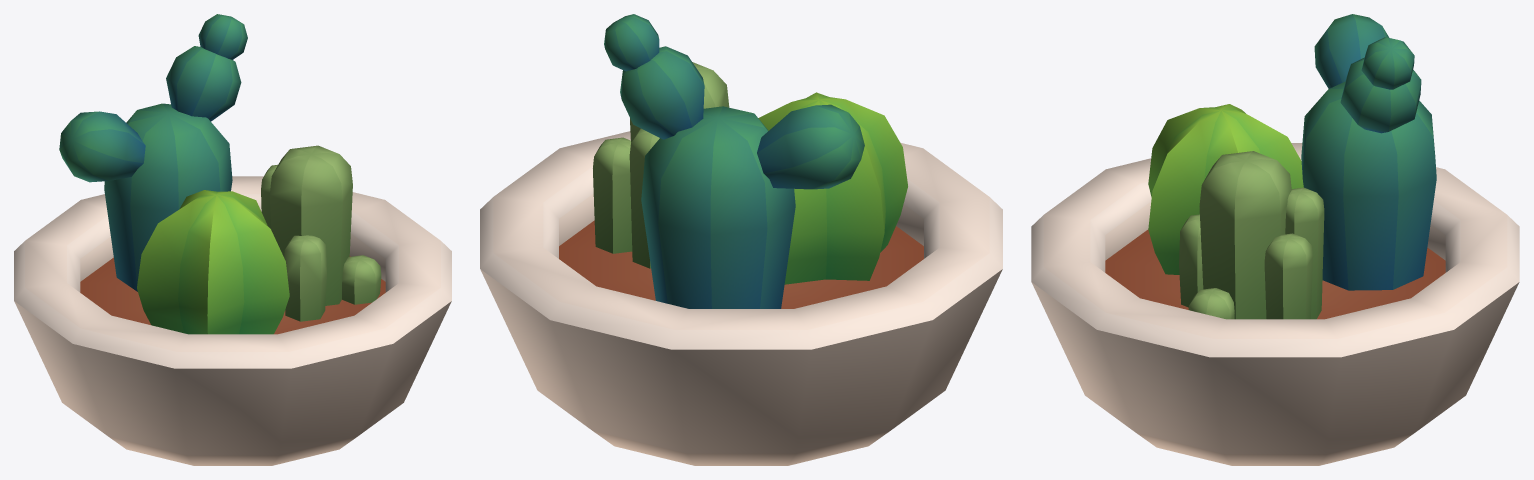
Rendered from plant_cacti.glb.
The picture shows the model from 3 angles, left to right: view 1: azimuth 30°, elevation 25°; view 2: azimuth 150°, elevation 25°; view 3: azimuth 270°, elevation 25°; orthographic projection. The views are drawn at different scales.
Visible parts, largest first — view 1: cacti_plant_pot_small; view 2: cacti_plant_pot_small; view 3: cacti_plant_pot_small.
Boxes of the visible parts, x1,y1,x2,y2 form: cacti_plant_pot_small: [14, 14, 451, 465]; cacti_plant_pot_small: [480, 14, 1002, 465]; cacti_plant_pot_small: [1031, 14, 1519, 465].
Size of the model in its own units: 0.9904 by 0.8527 by 0.9904.
1 material, 1 textured.
